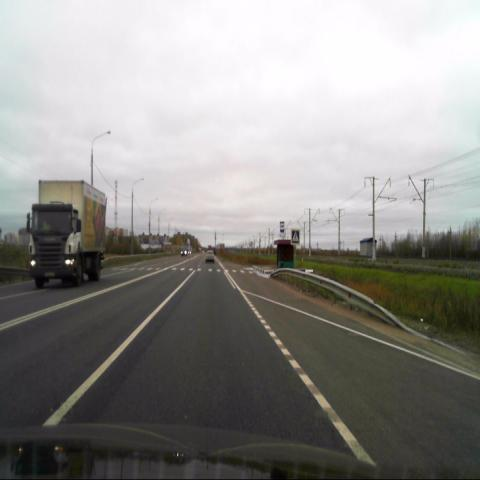5_19_1: (291, 229, 300, 245)
